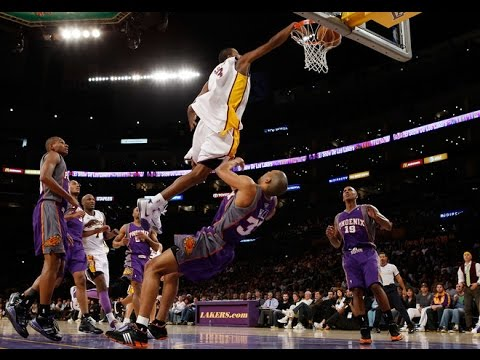basket: (287, 17, 351, 80)
shoot: (144, 21, 301, 230)
